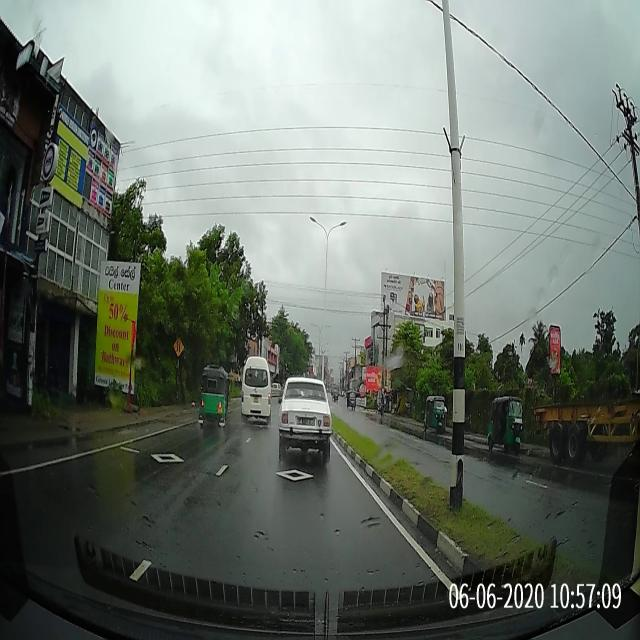diamond: (190, 458, 380, 498)
